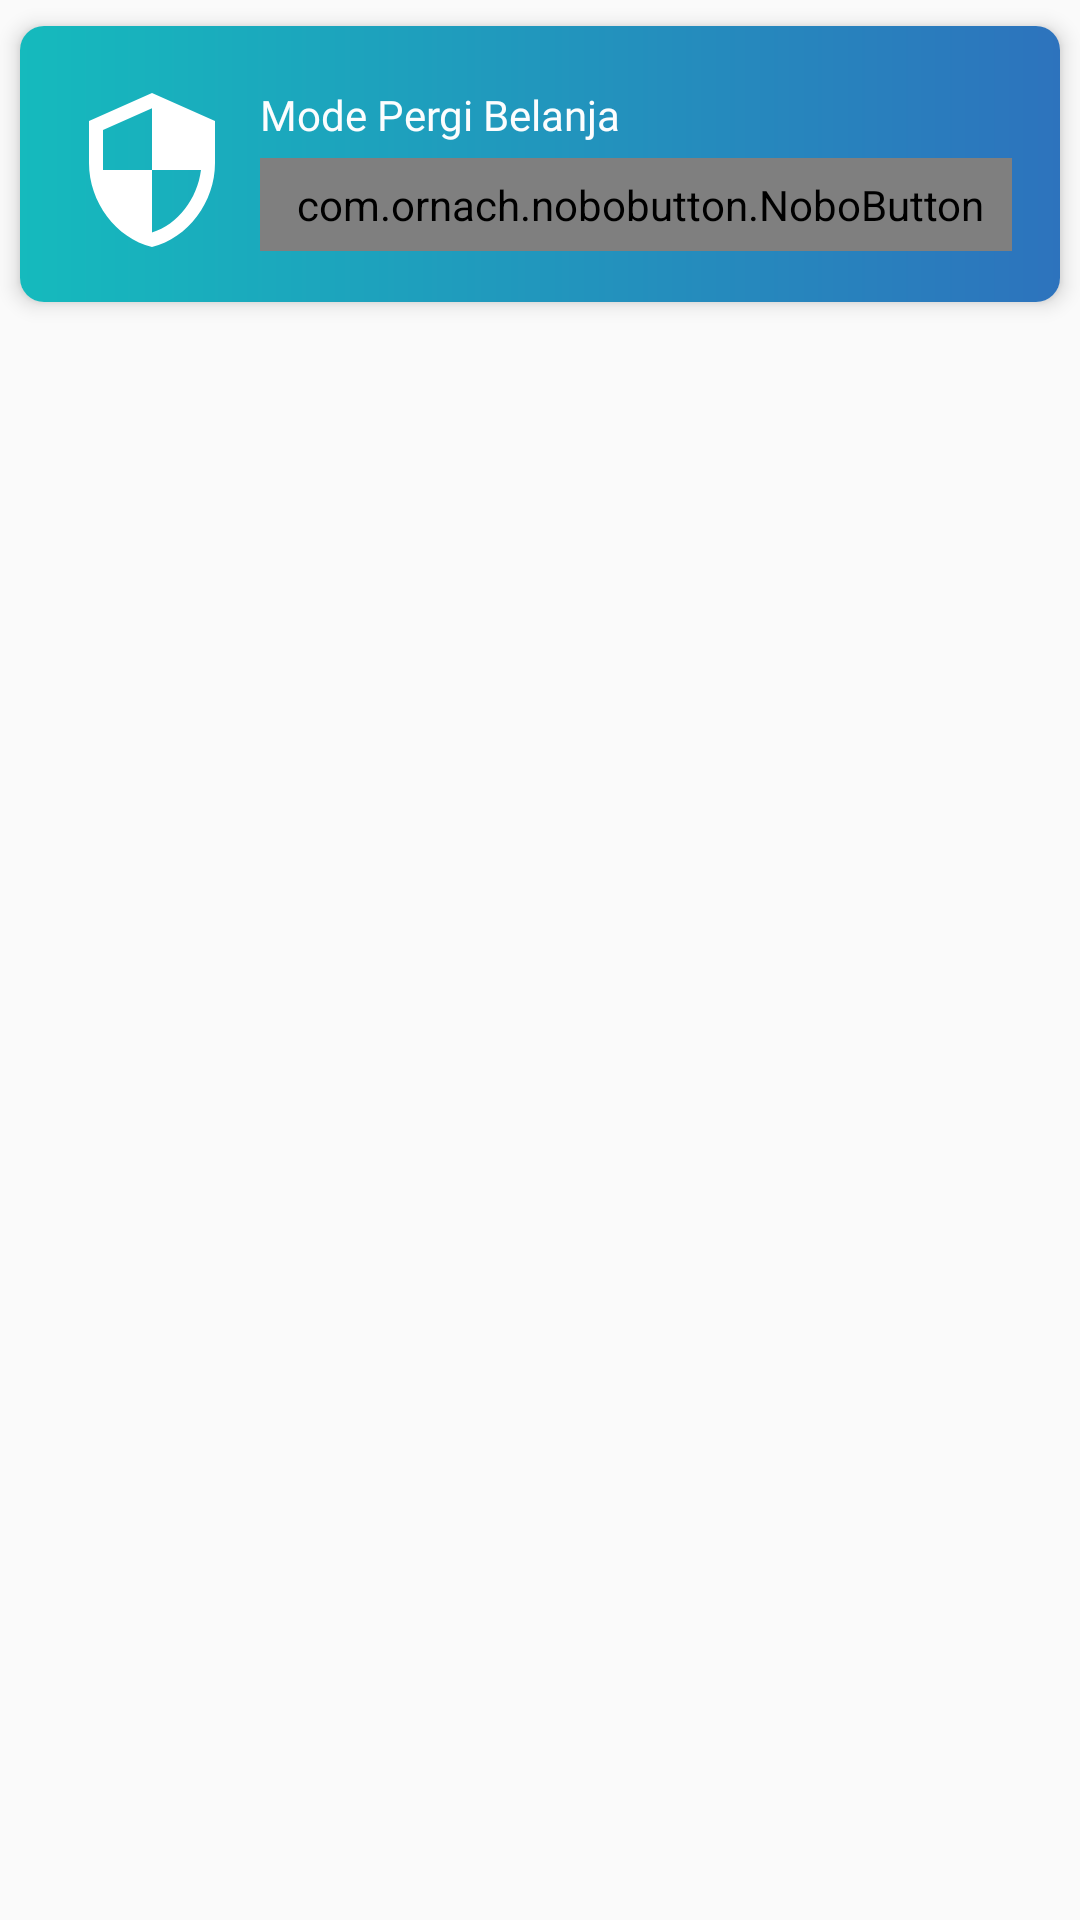

Point at icon controls on the screen. Image size 1080px x 1920px, points as (x=x, y=y).
security: (x=152, y=170)
